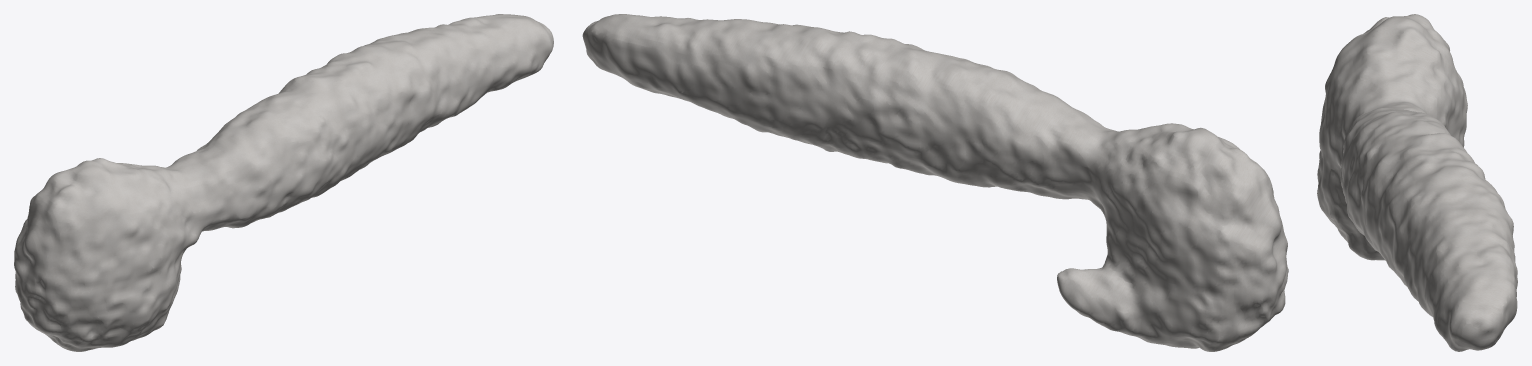
File: white.glb
3 renders of one model, left to right at view 1: azimuth 30°, elevation 25°; view 2: azimuth 150°, elevation 25°; view 3: azimuth 270°, elevation 25°, orthographic. The views are drawn at different scales.
Parts seen in each view (by area): view 1: PA_White; view 2: PA_White; view 3: PA_White.
Boxes of the visible parts, x1,y1,x2,y2 form: PA_White: (14,14,553,351); PA_White: (582,14,1288,351); PA_White: (1317,14,1517,351).
Size of the model in its own units: 0.1529 by 0.0541 by 0.0384.
Materials: 1 (1 with a texture image).
